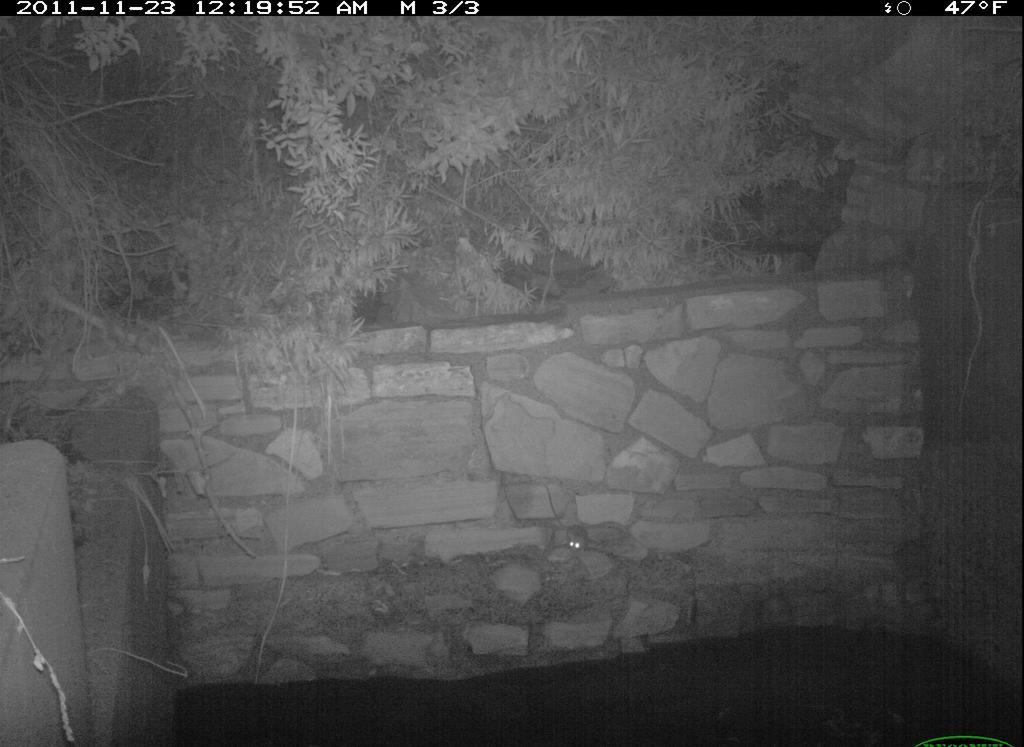rodent: (561, 523, 594, 558)
